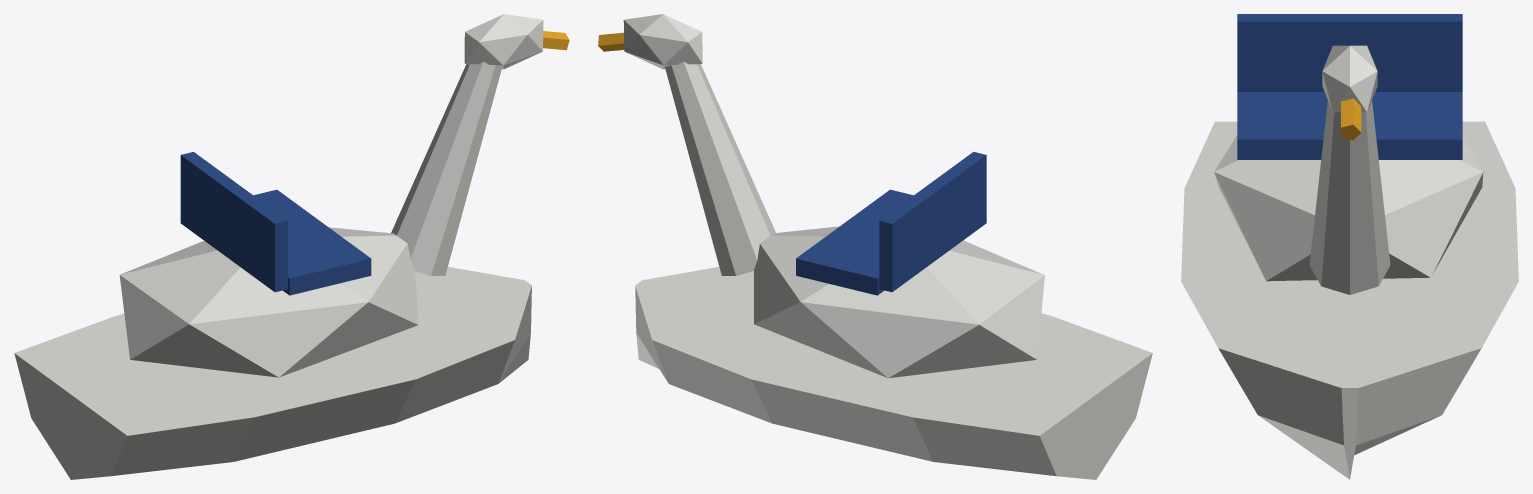
The model's file is svanbat.glb.
The picture shows the model from 3 angles, left to right: view 1: azimuth 30°, elevation 25°; view 2: azimuth 150°, elevation 25°; view 3: azimuth 270°, elevation 25°; orthographic projection. The views are drawn at different scales.
Visible parts, largest first — view 1: svanbat; view 2: svanbat; view 3: svanbat.
Part boxes in pixels (<box>): svanbat: <box>14,14,569,479</box>; svanbat: <box>598,14,1152,479</box>; svanbat: <box>1181,14,1518,479</box>.
Size of the model in its own units: 3.03 by 2.18 by 1.5.
